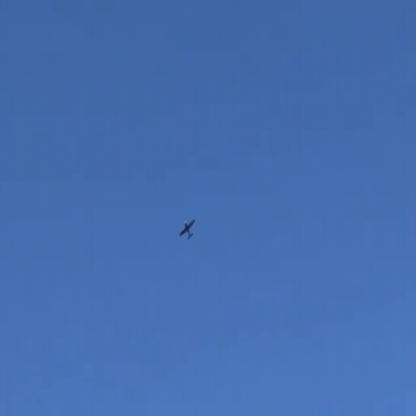CIV_Plane: (180, 219, 196, 240)
